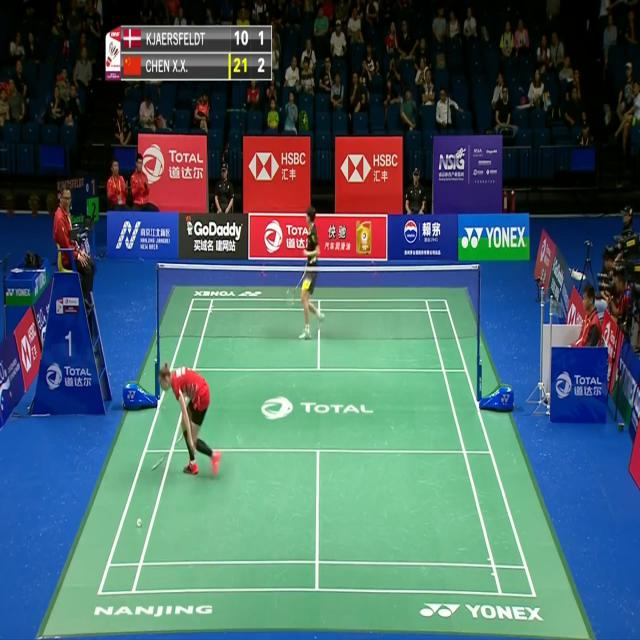Player1: (156, 359, 226, 486)
Player2: (294, 204, 329, 350)
